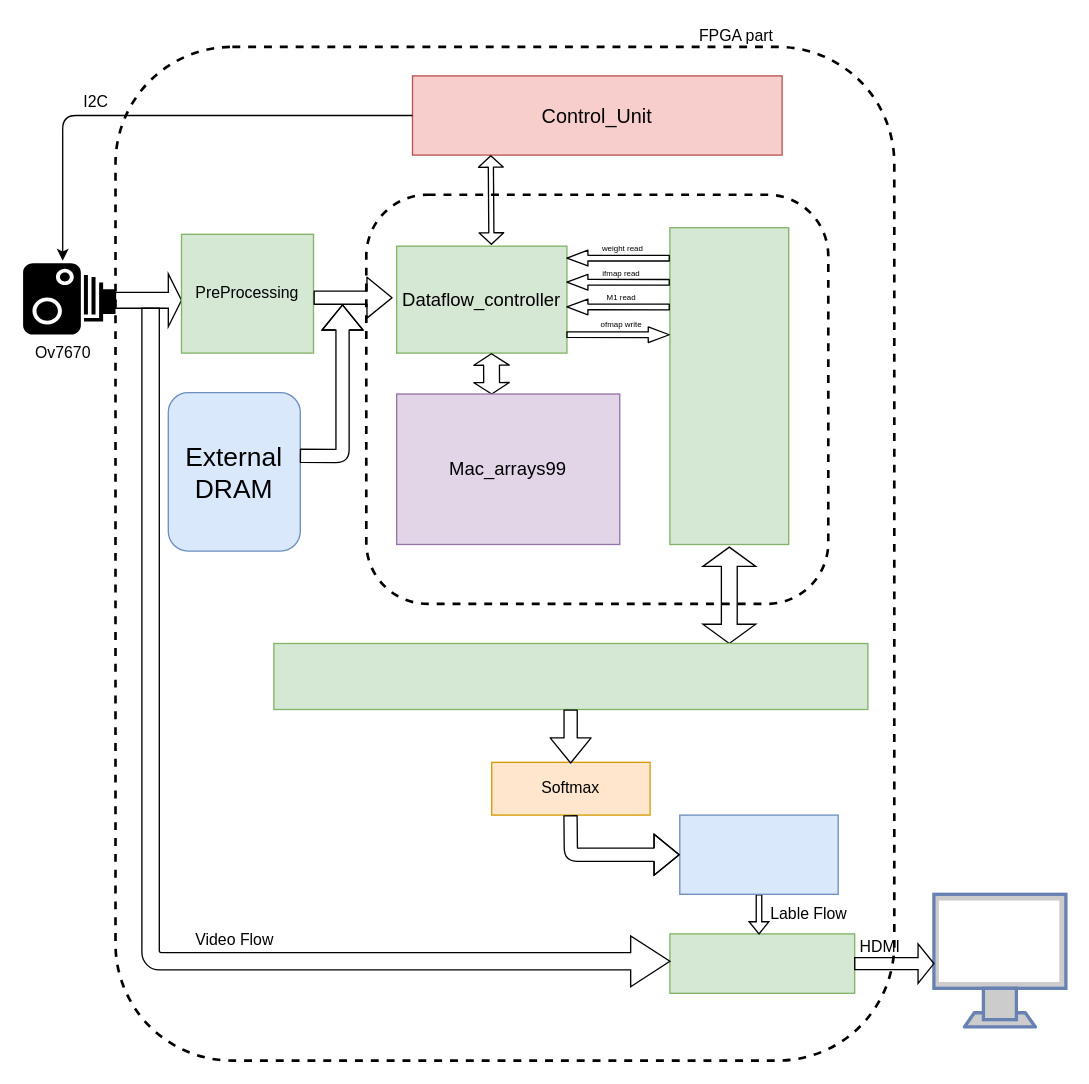
The diagram is 1089 pixels wide and 1084 high, and some of its shapes have lost their labels. Each missing label, with the box of its shape:
BRAM_group: (273, 642, 868, 710)
DMA: (669, 226, 789, 544)
HDMI_driver: (669, 933, 855, 993)
Sorter: (678, 814, 838, 894)
